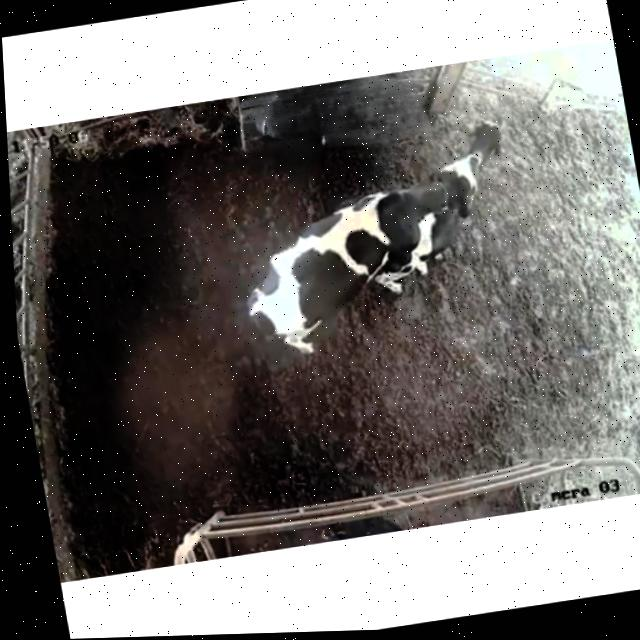ride: (214, 159, 512, 374)
